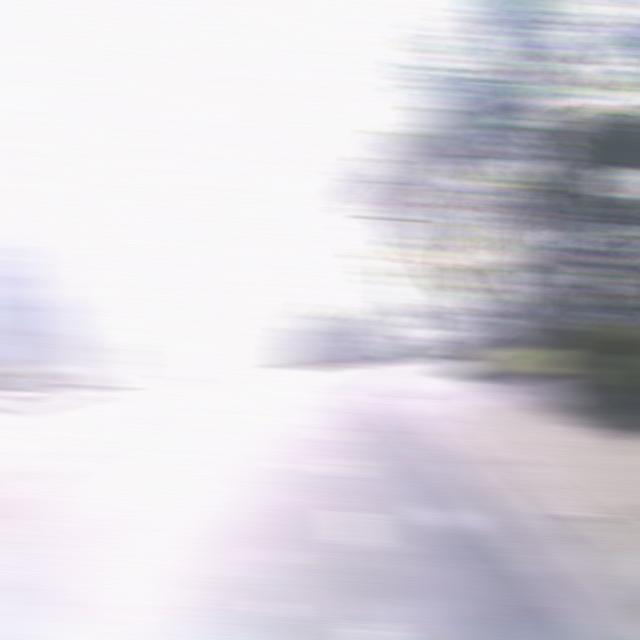stop: (454, 265, 492, 292)
